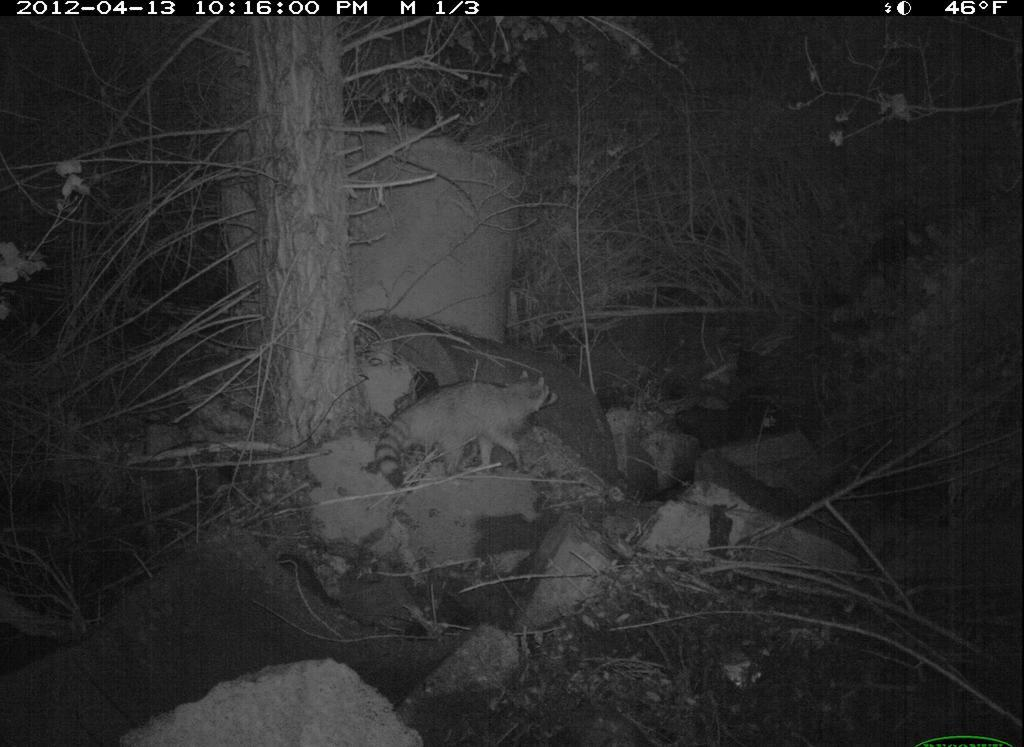raccoon: (370, 365, 568, 498)
